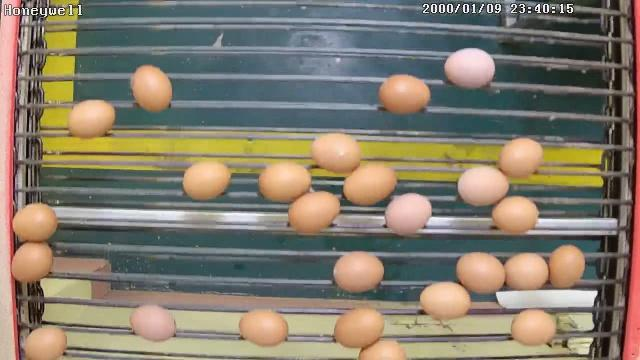egg: (378, 71, 432, 116), (443, 46, 497, 91), (333, 250, 385, 296), (258, 160, 312, 204), (342, 161, 396, 205), (287, 190, 341, 234), (64, 98, 116, 142), (333, 305, 385, 349), (456, 166, 510, 208), (457, 250, 506, 296), (384, 190, 432, 236), (130, 62, 174, 112), (312, 132, 362, 176), (496, 135, 544, 180), (182, 160, 232, 202), (238, 308, 290, 348), (420, 281, 472, 321), (10, 201, 60, 242), (11, 240, 55, 286), (502, 250, 550, 292), (510, 306, 558, 348), (130, 303, 177, 344), (548, 242, 586, 290), (492, 195, 540, 233), (22, 322, 68, 360)
